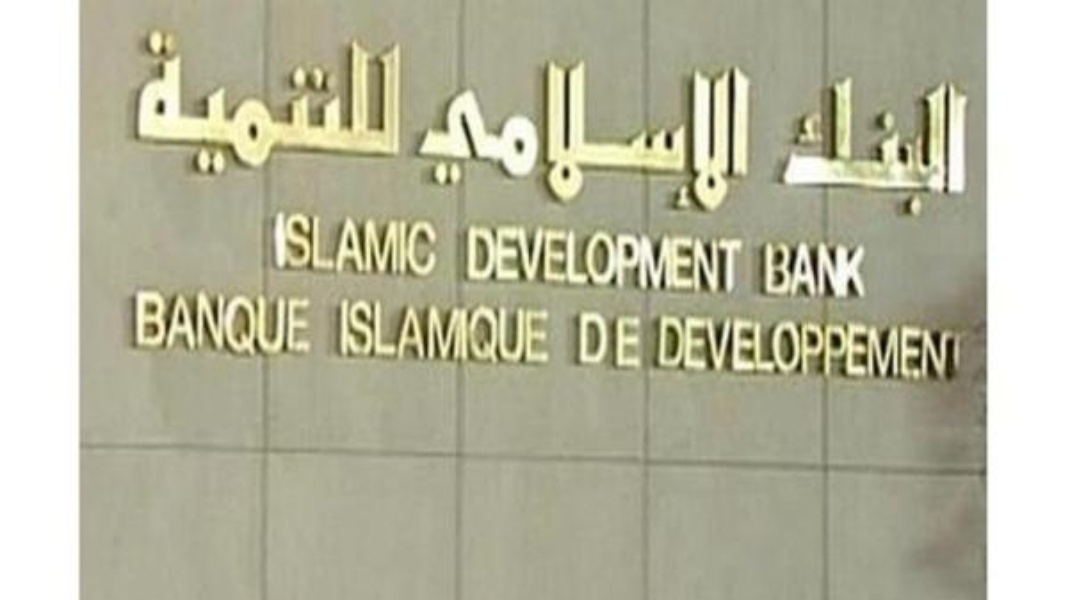text: (433, 57, 448, 219), (449, 57, 464, 219), (465, 57, 480, 219), (481, 57, 496, 219), (497, 57, 512, 219), (513, 57, 528, 219), (529, 57, 544, 219), (545, 57, 560, 219), (561, 57, 576, 219), (577, 57, 592, 219), (593, 57, 608, 219), (609, 57, 624, 219), (625, 57, 640, 219), (641, 57, 656, 219), (657, 57, 672, 219), (673, 57, 688, 219), (689, 57, 704, 219), (705, 57, 720, 219), (721, 57, 736, 219), (145, 22, 160, 179), (161, 22, 176, 179), (177, 22, 192, 179), (193, 22, 208, 179), (209, 22, 224, 179), (225, 22, 240, 179), (241, 22, 256, 179), (257, 22, 272, 179), (273, 22, 288, 179), (289, 22, 304, 179), (305, 22, 320, 179), (321, 22, 336, 179), (337, 22, 352, 179), (353, 22, 368, 179), (369, 22, 384, 179), (385, 22, 400, 179), (785, 72, 800, 221), (801, 72, 816, 221), (817, 72, 832, 221), (833, 72, 848, 221), (849, 72, 864, 221), (865, 72, 880, 221), (881, 72, 896, 221), (897, 72, 912, 221), (913, 72, 928, 221), (929, 72, 944, 221), (945, 72, 960, 221), (737, 57, 750, 219), (961, 72, 974, 221), (657, 310, 672, 387), (673, 310, 688, 387), (689, 310, 704, 387), (705, 310, 720, 387), (721, 310, 736, 387), (737, 310, 752, 387), (753, 310, 768, 387), (769, 310, 784, 387), (785, 310, 800, 387), (801, 310, 816, 387), (817, 310, 832, 387), (833, 310, 848, 387), (849, 310, 864, 387), (865, 310, 880, 387), (881, 310, 896, 387), (897, 310, 912, 387), (913, 310, 928, 387), (929, 310, 944, 387), (945, 310, 960, 387), (145, 289, 160, 364), (161, 289, 176, 364), (177, 289, 192, 364), (193, 289, 208, 364), (209, 289, 224, 364), (225, 289, 240, 364), (241, 289, 256, 364), (257, 289, 272, 364), (273, 289, 288, 364), (289, 289, 304, 364), (353, 296, 368, 371), (369, 296, 384, 371), (385, 296, 400, 371), (401, 296, 416, 371), (417, 296, 432, 371), (433, 296, 448, 371), (449, 296, 464, 371), (465, 296, 480, 371), (481, 296, 496, 371), (497, 296, 512, 371), (513, 296, 528, 371), (529, 296, 544, 371), (273, 207, 288, 280), (289, 207, 304, 280), (305, 207, 320, 280), (321, 207, 336, 280), (337, 207, 352, 280), (353, 207, 368, 280), (369, 207, 384, 280), (385, 207, 400, 280), (401, 207, 416, 280), (417, 207, 432, 280), (465, 221, 480, 294), (481, 221, 496, 294), (497, 221, 512, 294), (513, 221, 528, 294), (529, 221, 544, 294), (545, 221, 560, 294), (561, 221, 576, 294), (577, 221, 592, 294), (593, 221, 608, 294), (609, 221, 624, 294), (625, 221, 640, 294), (641, 221, 656, 294), (657, 221, 672, 294), (673, 221, 688, 294), (689, 221, 704, 294), (705, 221, 720, 294), (721, 221, 736, 294), (305, 289, 319, 364), (777, 72, 784, 221), (339, 296, 352, 371), (577, 309, 592, 374), (593, 309, 608, 374), (609, 309, 624, 374), (625, 309, 640, 374), (769, 237, 784, 300), (785, 237, 800, 300), (801, 237, 816, 300), (817, 237, 832, 300), (833, 237, 848, 300), (849, 237, 864, 300), (134, 289, 144, 364), (433, 207, 442, 280), (961, 310, 969, 387), (865, 237, 873, 300), (141, 22, 144, 179), (650, 310, 656, 387), (545, 296, 551, 371), (737, 221, 743, 294), (762, 237, 768, 300), (401, 22, 403, 179), (572, 309, 576, 374), (462, 221, 464, 294), (641, 309, 643, 374), (271, 207, 272, 280)
